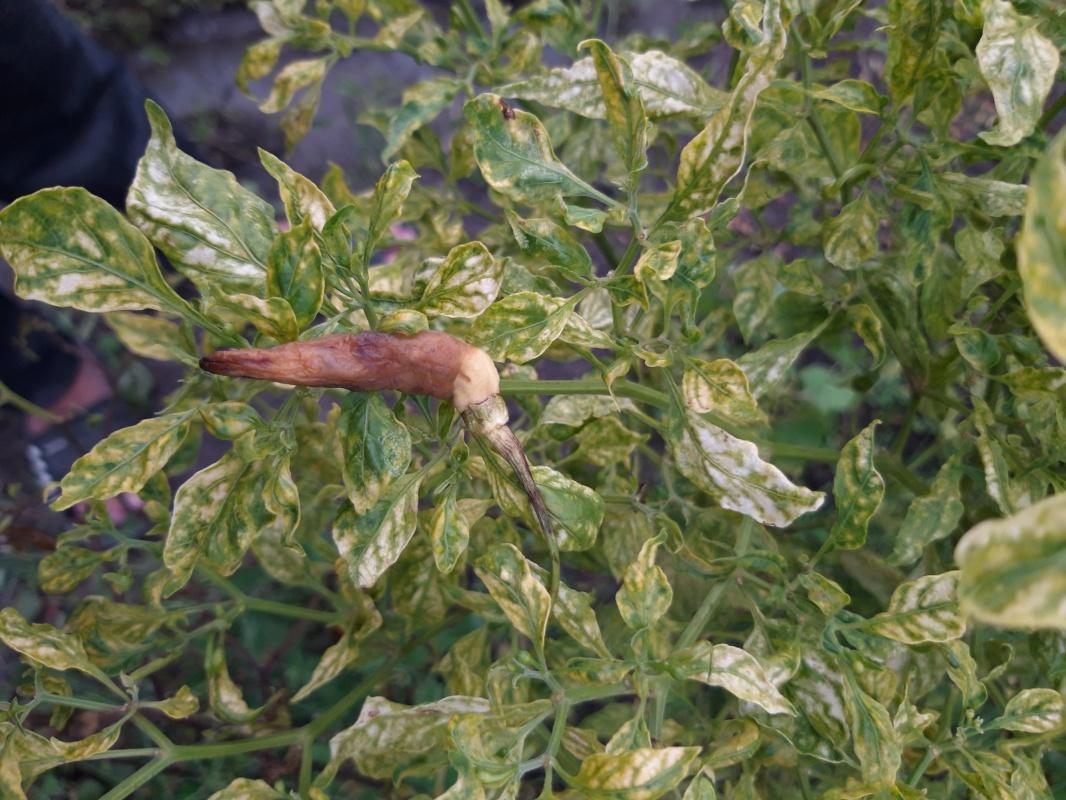antraknosa: (198, 329, 501, 416)
